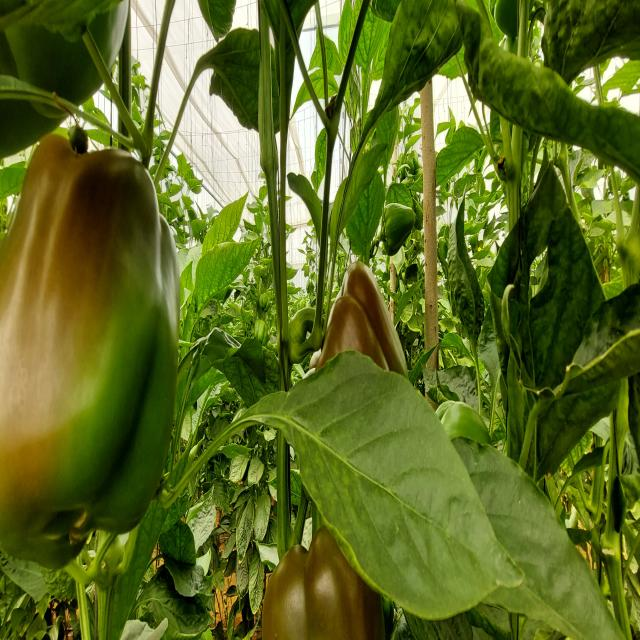BrownishRed--Can-be-Harvested: (6, 137, 183, 558), (261, 528, 386, 637), (316, 274, 408, 412)
